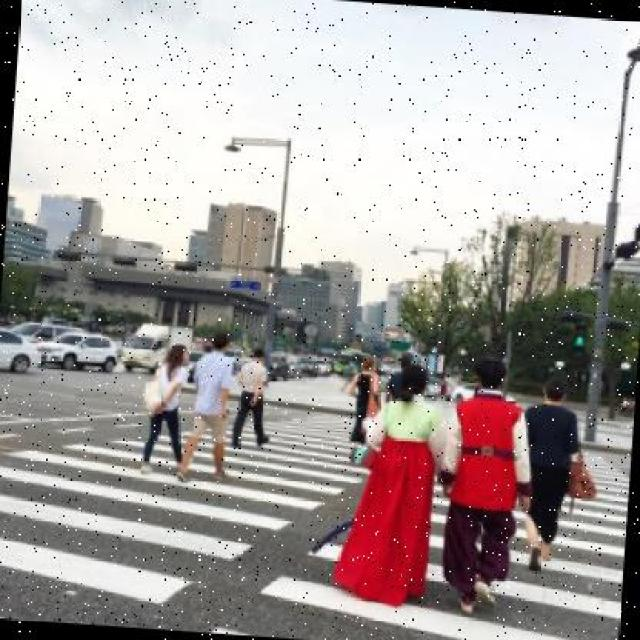obstacle: (436, 360, 532, 620), (352, 360, 453, 605), (517, 375, 583, 574), (174, 328, 234, 487), (139, 342, 192, 476), (232, 346, 274, 448)
